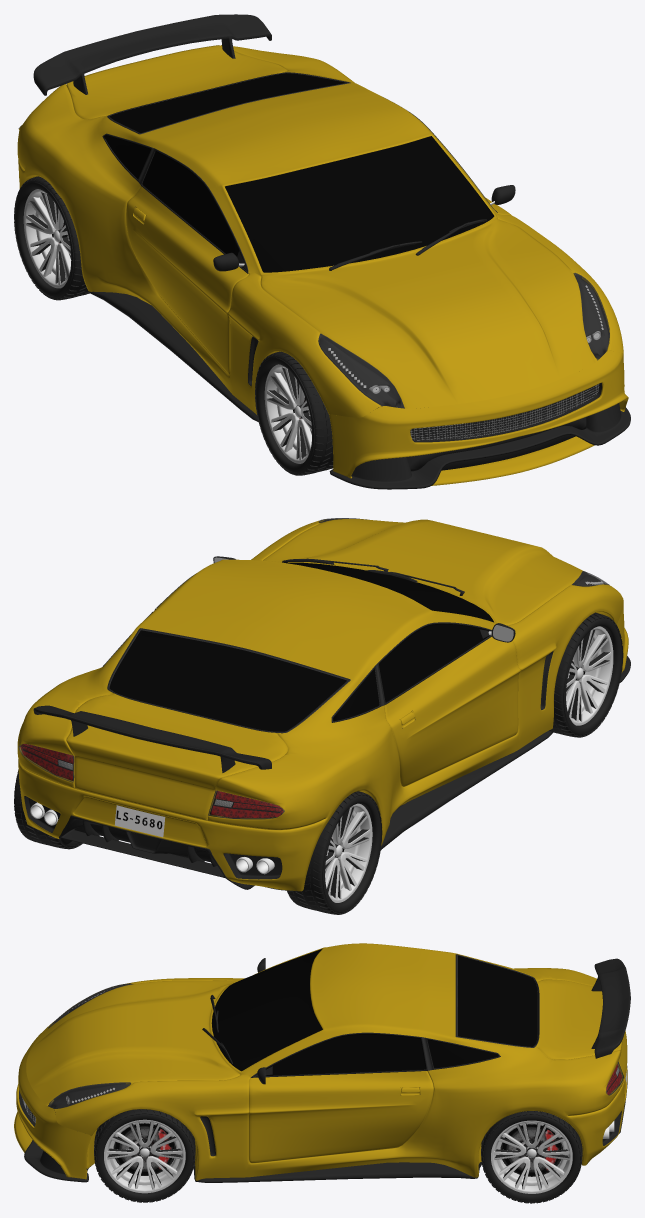
Rendered from sports-car.glb.
The picture shows the model from 3 angles, top to bottom: view 1: azimuth 30°, elevation 25°; view 2: azimuth 150°, elevation 25°; view 3: azimuth 270°, elevation 25°; orthographic projection. The views are drawn at different scales.
Parts seen in each view (by area): view 1: front glass.003, break pad.004, Plane.014, break pad.006; view 2: front glass.003, break pad.006, break pad.004, Plane.014, break pad.007; view 3: front glass.003, break pad.005, break pad.007, Plane.014.
Boxes of the visible parts, bbox=[...] form: front glass.003: bbox=[17, 45, 630, 489]; break pad.004: bbox=[255, 351, 333, 475]; Plane.014: bbox=[33, 14, 271, 95]; break pad.006: bbox=[14, 176, 90, 300]; front glass.003: bbox=[17, 518, 630, 891]; break pad.006: bbox=[287, 791, 382, 914]; break pad.004: bbox=[550, 612, 623, 737]; Plane.014: bbox=[33, 705, 271, 772]; break pad.007: bbox=[14, 769, 82, 849]; front glass.003: bbox=[14, 943, 627, 1182]; break pad.005: bbox=[94, 1109, 195, 1202]; break pad.007: bbox=[481, 1111, 582, 1203]; Plane.014: bbox=[591, 958, 630, 1058].
Size of the model in its own units: 2.86 by 1.81 by 6.15.
16 materials, 4 textured.
